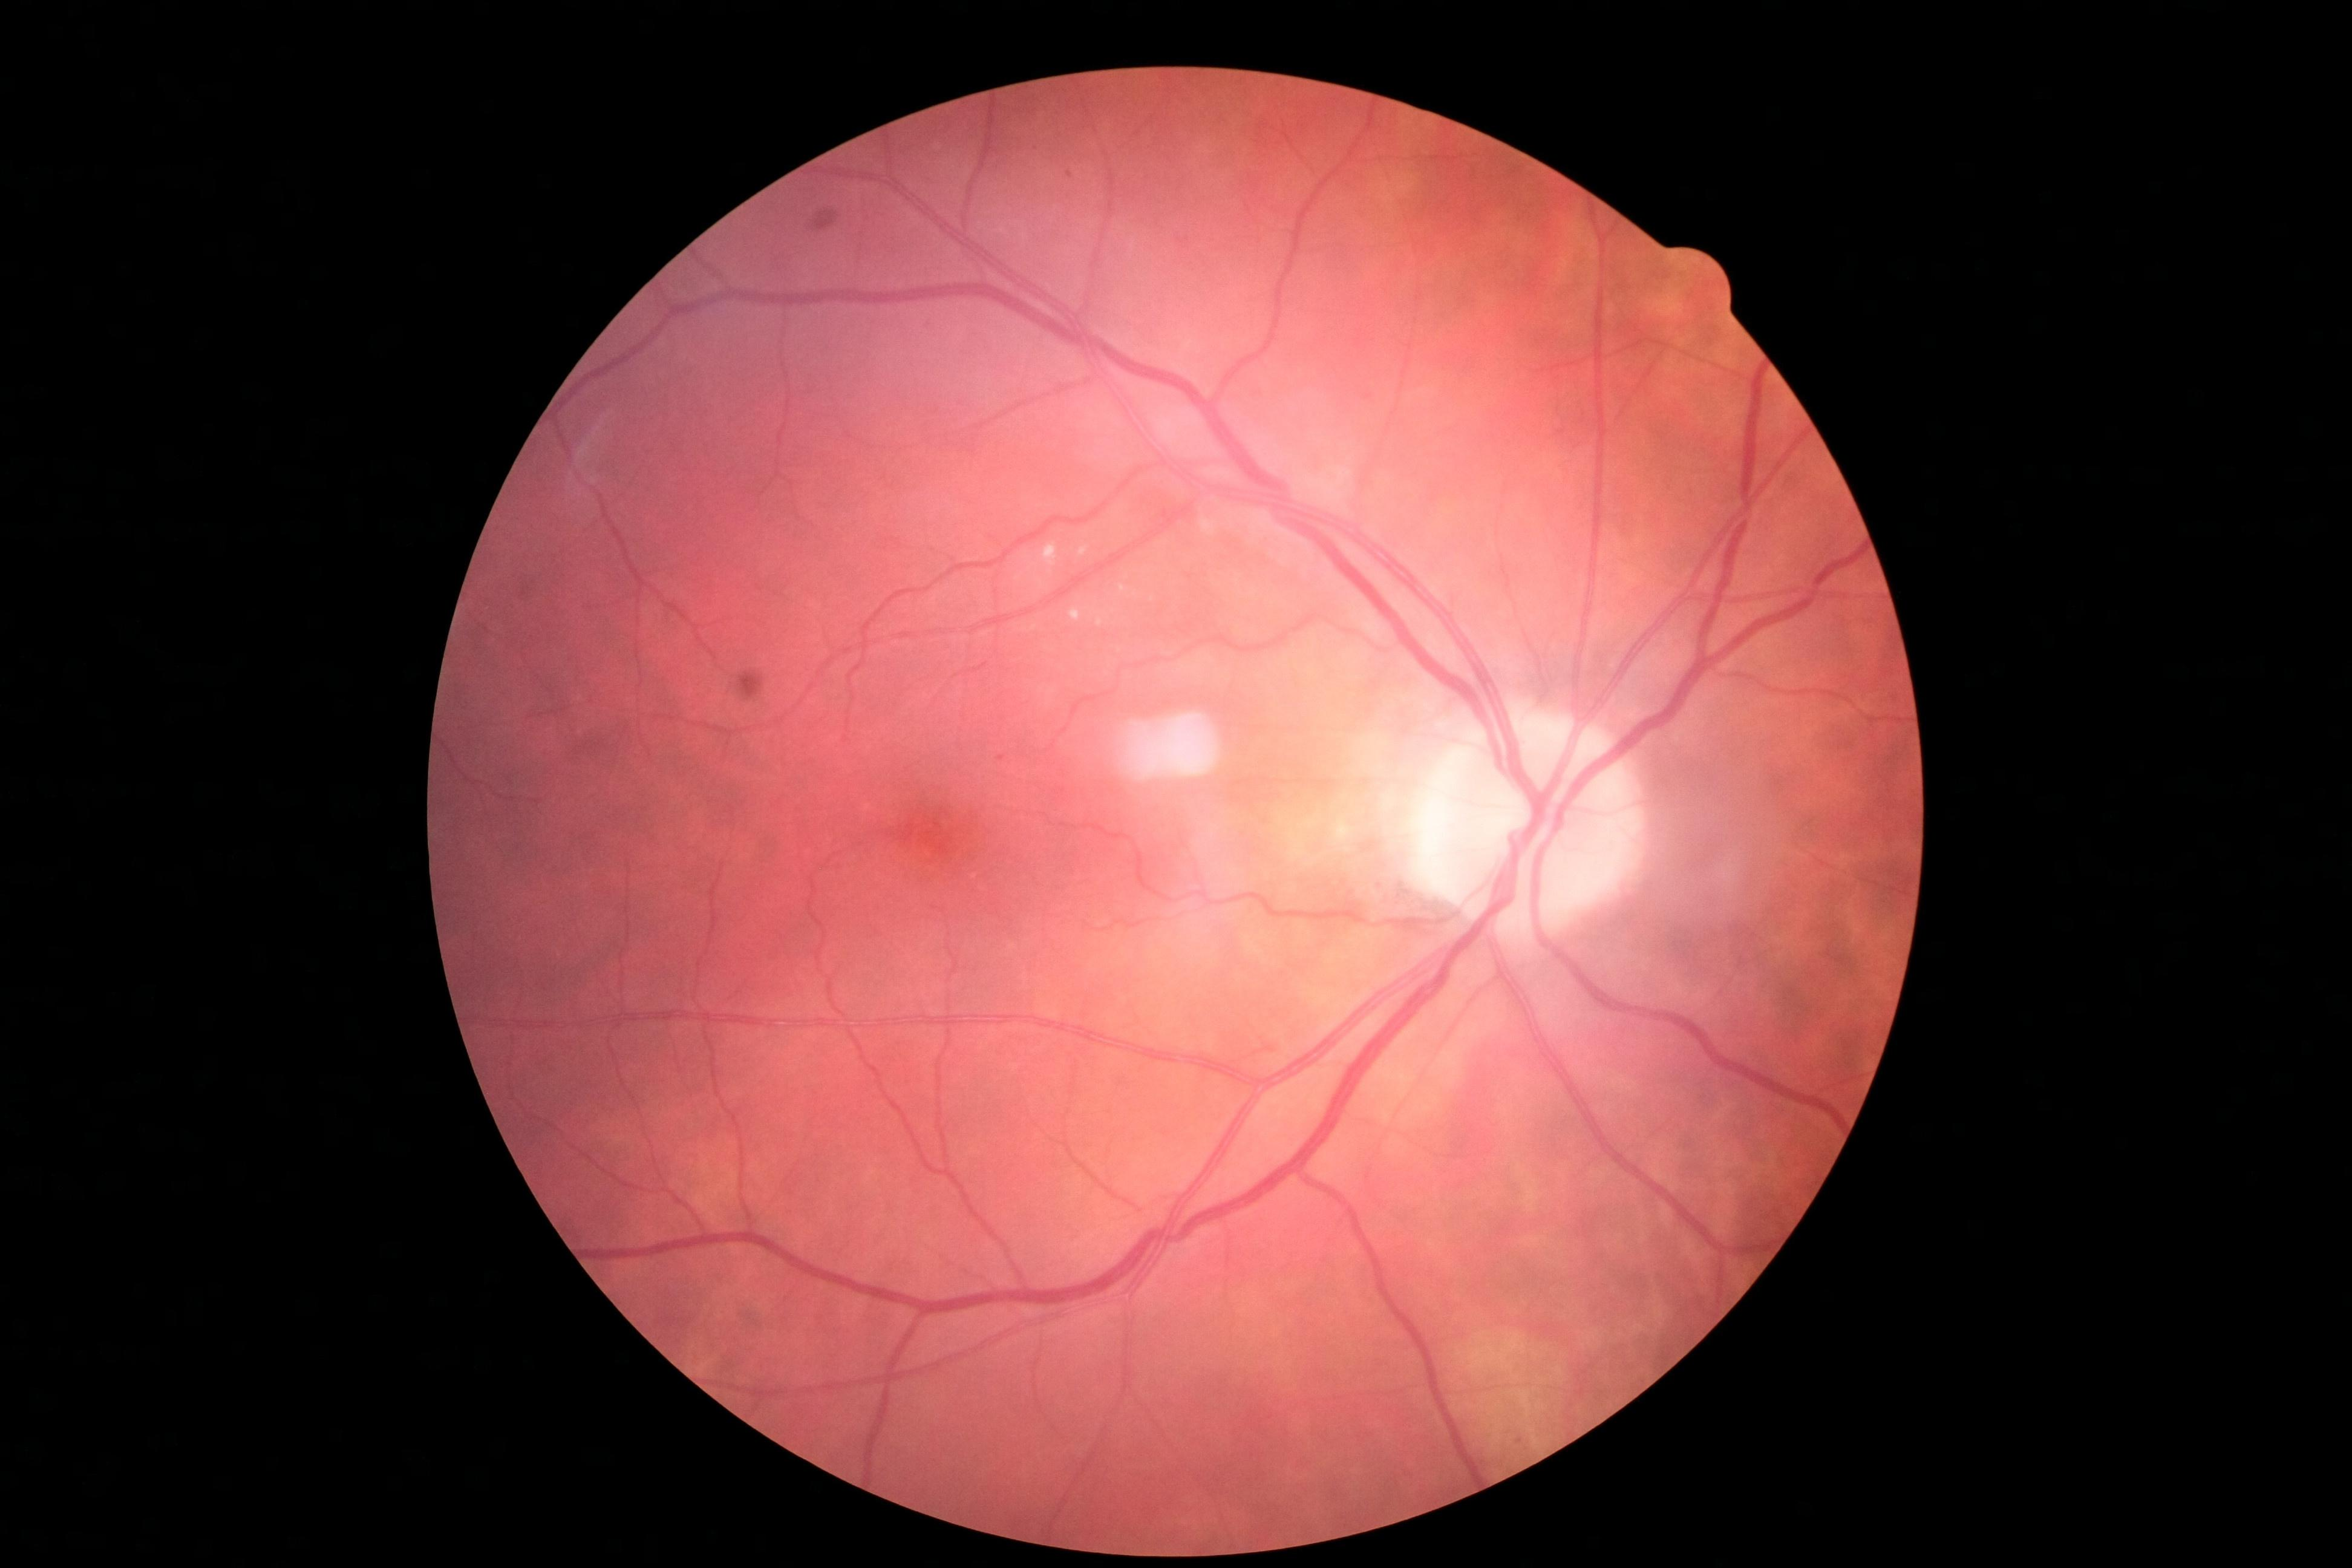Optic-nerve: (1410, 703, 1654, 941)
macula: (777, 714, 1057, 922)
notch: (1654, 231, 1757, 322)
